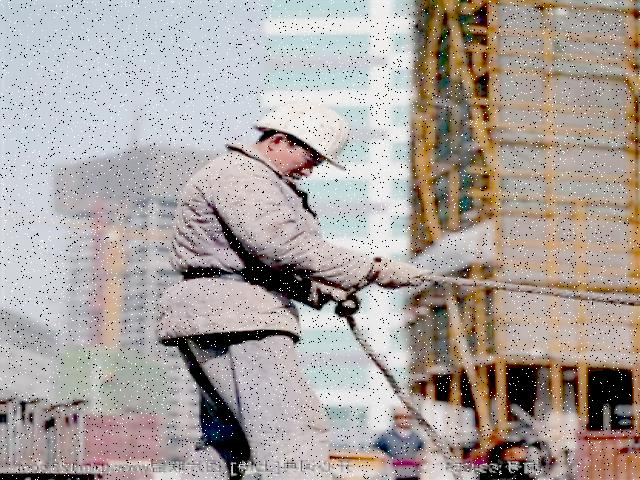Helmet: (241, 97, 361, 178)
